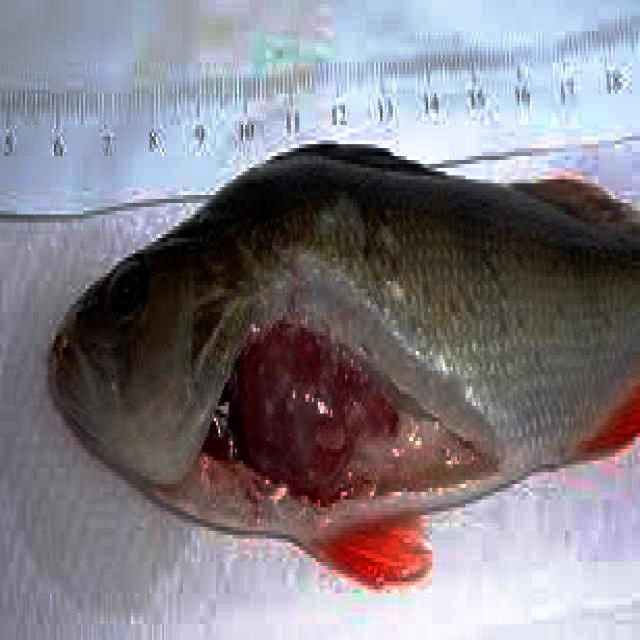Epizootic Ulcerative Syndrome -EUS-: (48, 145, 639, 585)
